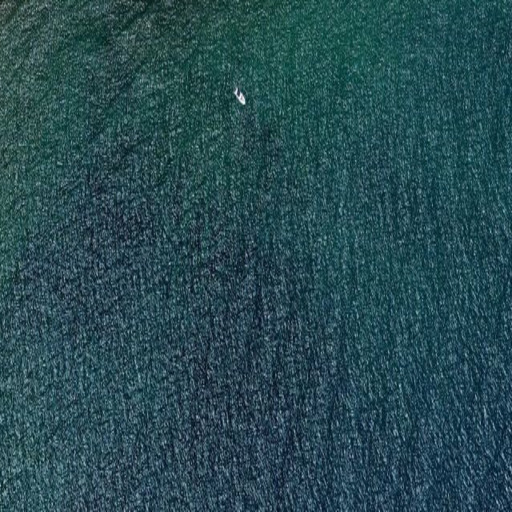ship: (231, 86, 247, 107)
